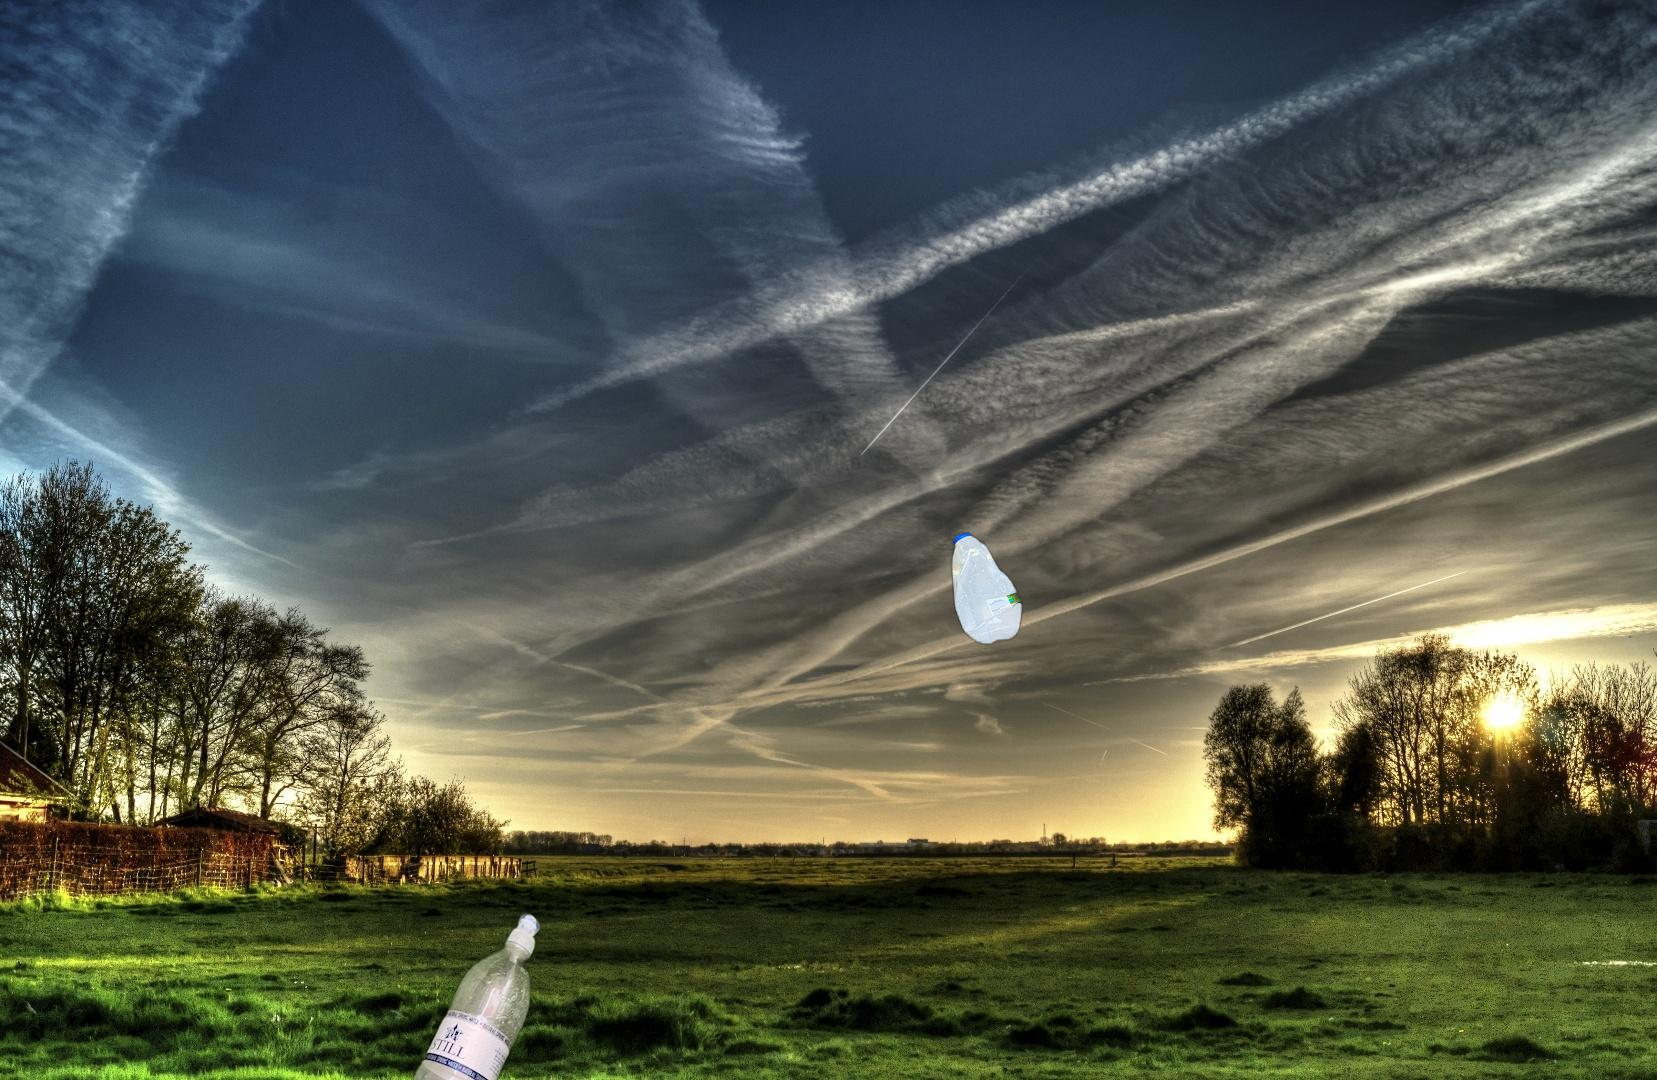plastic-bottles: (405, 826, 893, 1080), (947, 526, 1027, 651)
